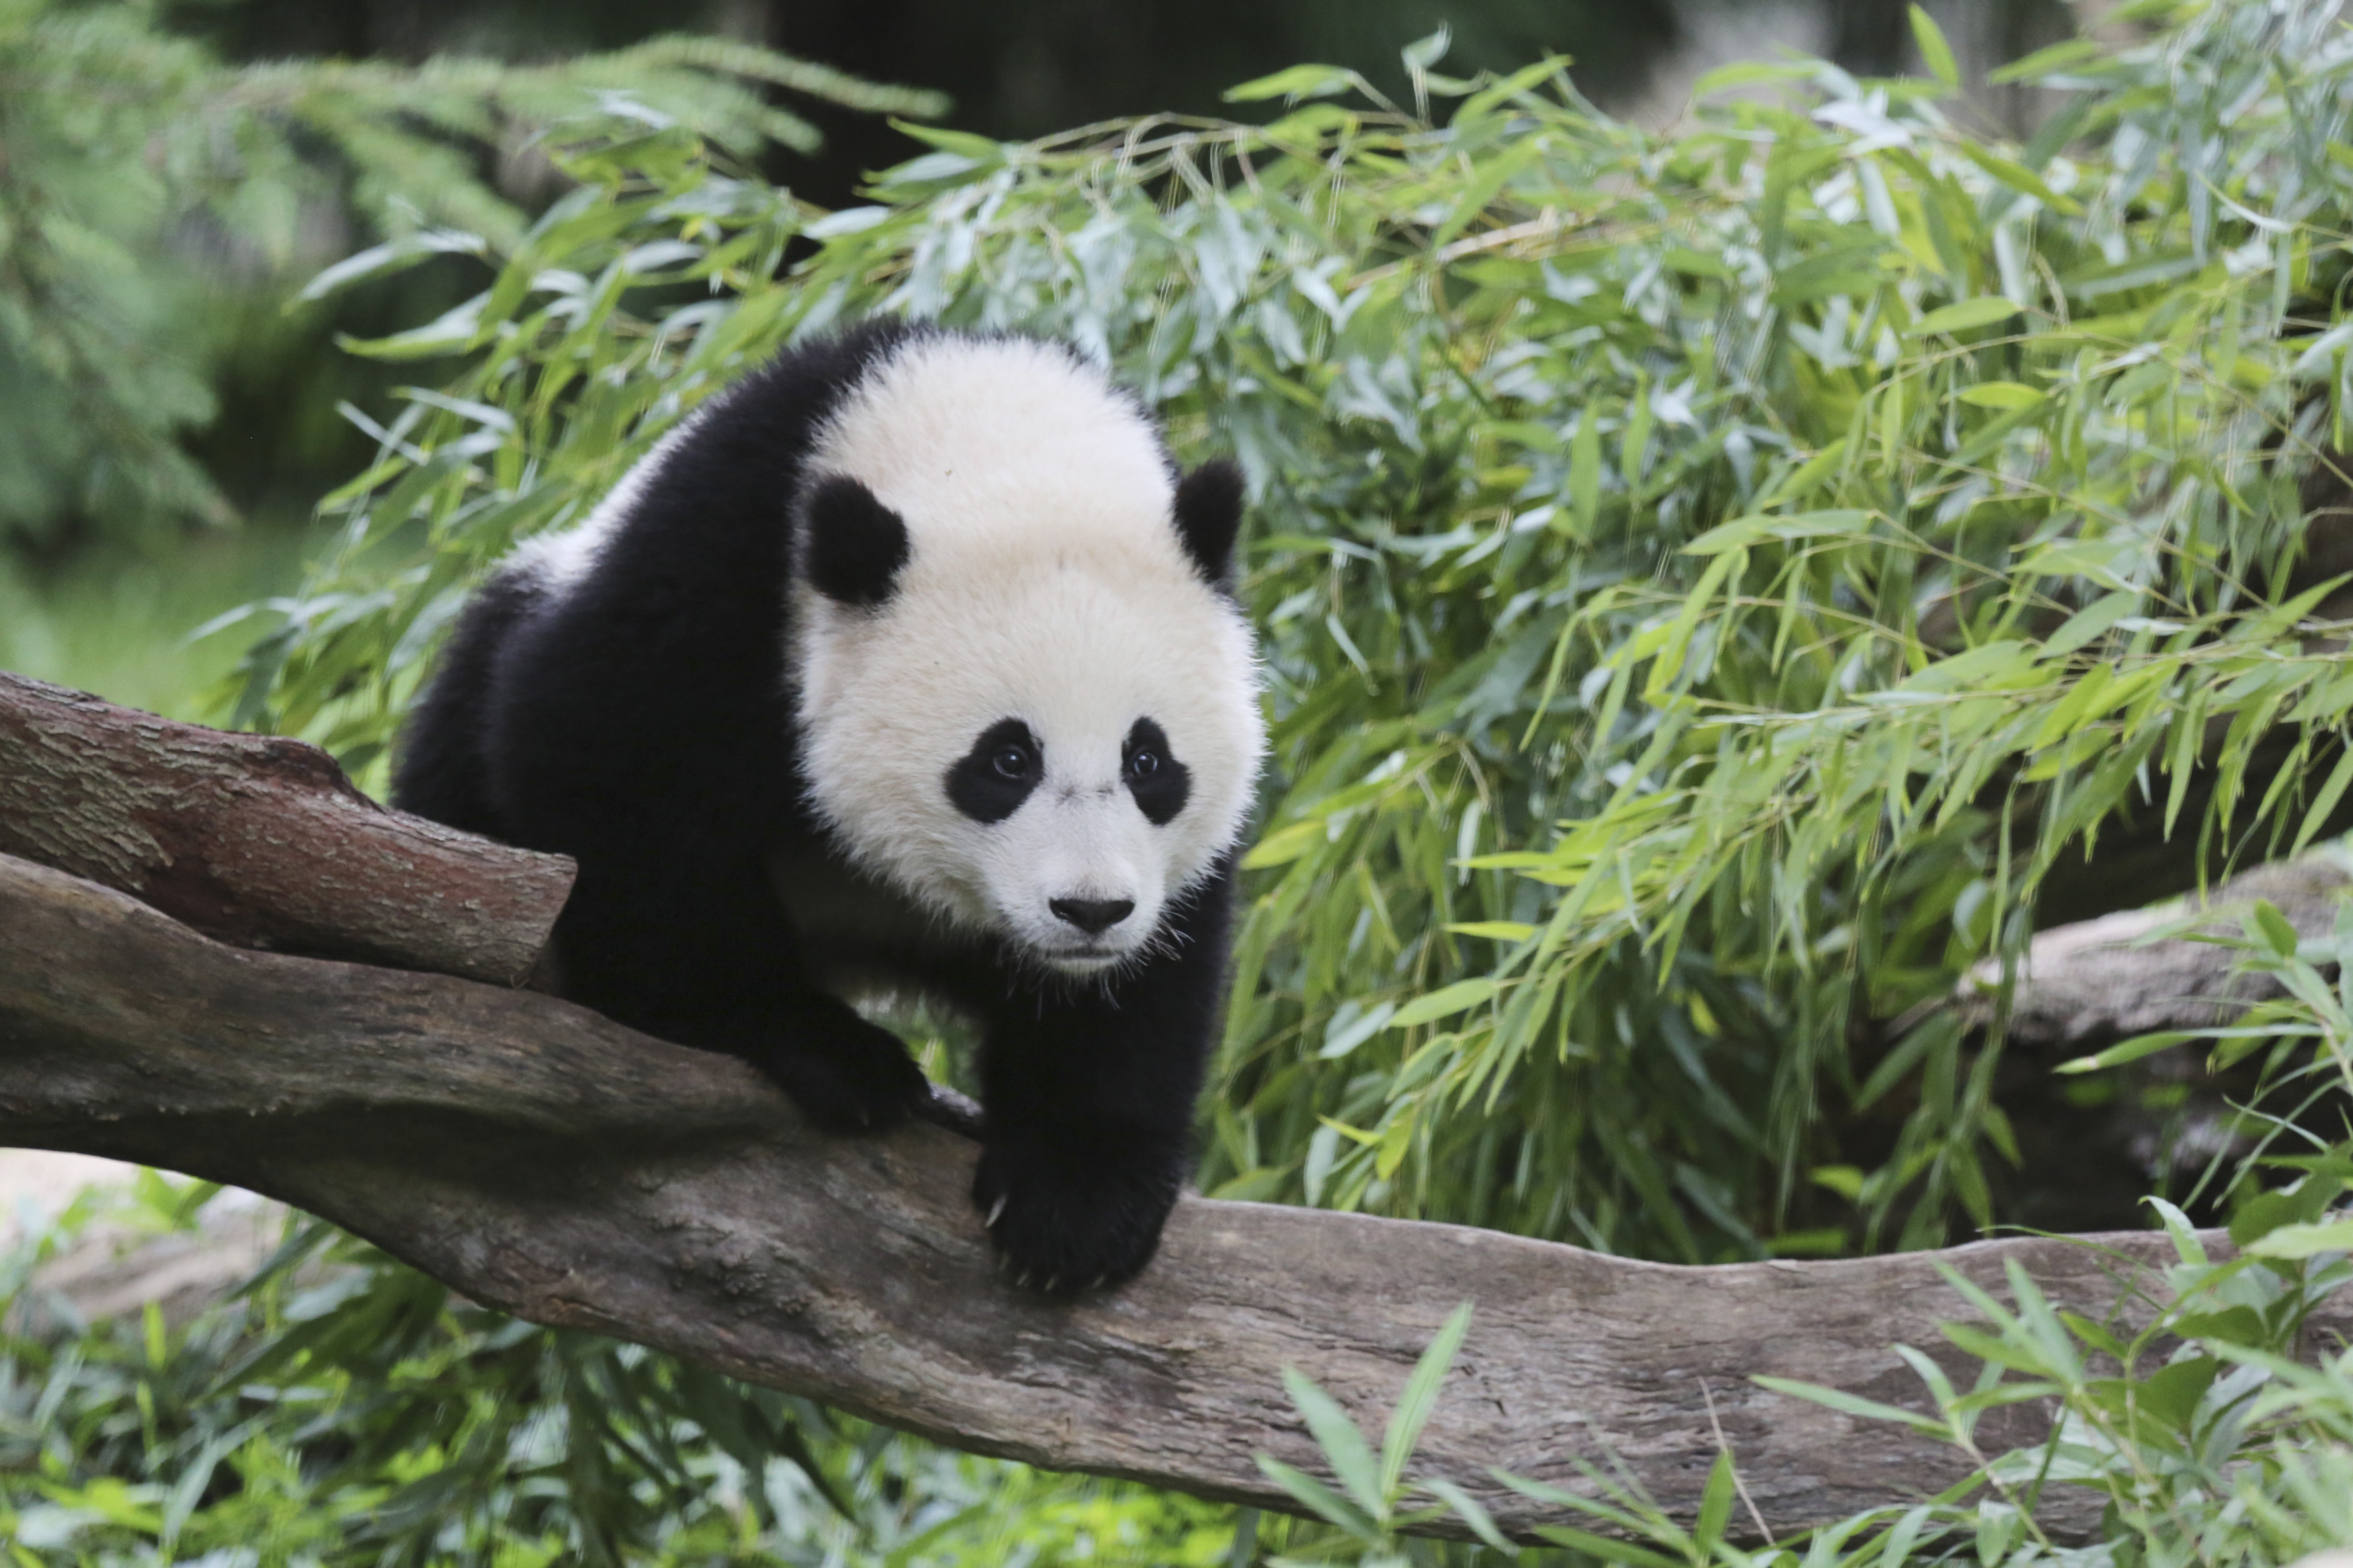panda: (320, 304, 1413, 1307)
